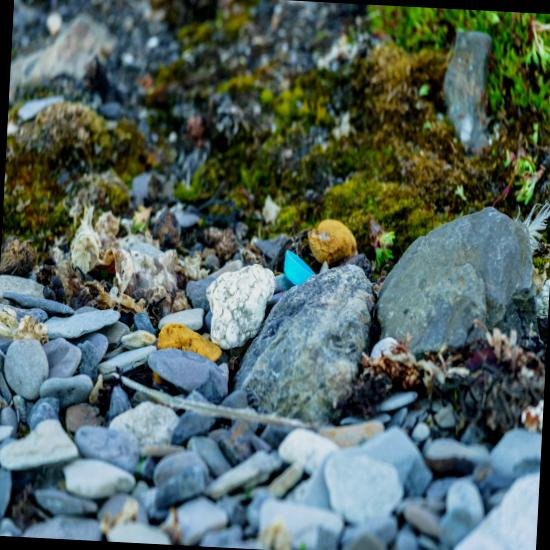Cigarette: (119, 515, 125, 523), (53, 454, 62, 458), (144, 397, 151, 401), (87, 459, 92, 464), (129, 359, 135, 363), (222, 291, 228, 295), (7, 310, 11, 316), (52, 376, 56, 382), (170, 298, 173, 305), (258, 263, 262, 268), (172, 202, 177, 206), (163, 192, 166, 198), (66, 232, 70, 236), (261, 169, 266, 172), (120, 203, 125, 206), (25, 328, 28, 333), (217, 170, 221, 173), (133, 198, 135, 203), (5, 294, 7, 299), (220, 178, 223, 181), (112, 214, 116, 216), (267, 143, 270, 145)
Clear plastic bottle: (99, 427, 147, 456)
Unlabeled litter: (197, 257, 200, 260)
